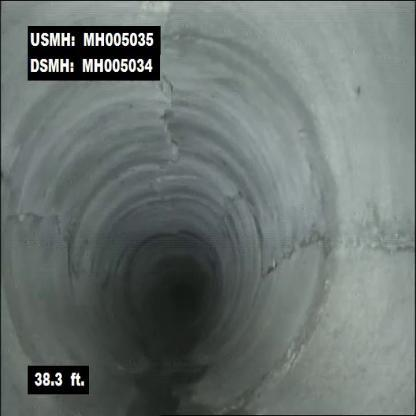crack: (342, 221, 411, 272)
hole: (148, 76, 194, 162)
